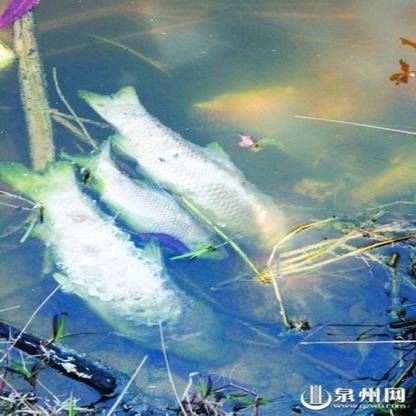deceased fish: (22, 165, 229, 365), (95, 87, 289, 251), (71, 145, 226, 261)
